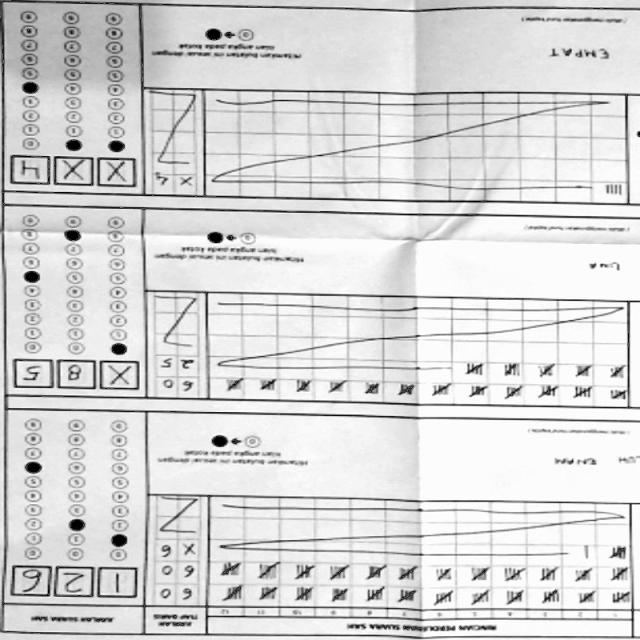Suara: (6, 562, 144, 603), (10, 357, 144, 397), (7, 152, 141, 192)
